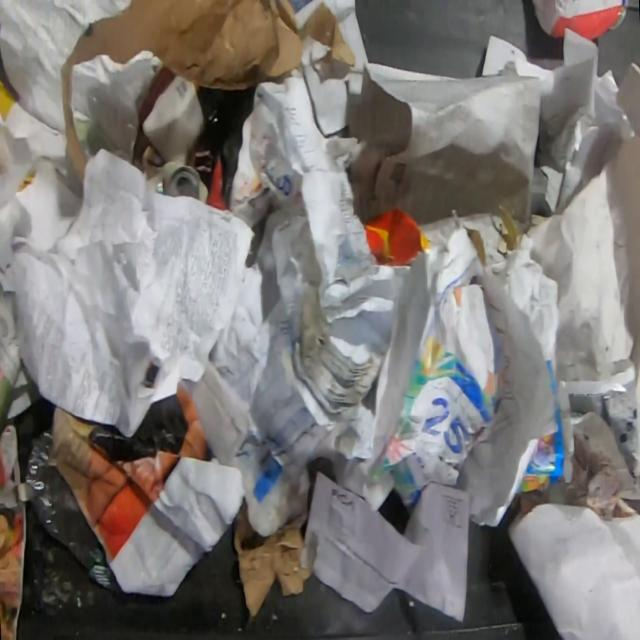cardboard: (233, 497, 312, 624)
metal: (156, 160, 209, 203)
rigid_plastic: (25, 431, 122, 593), (532, 0, 630, 40)
